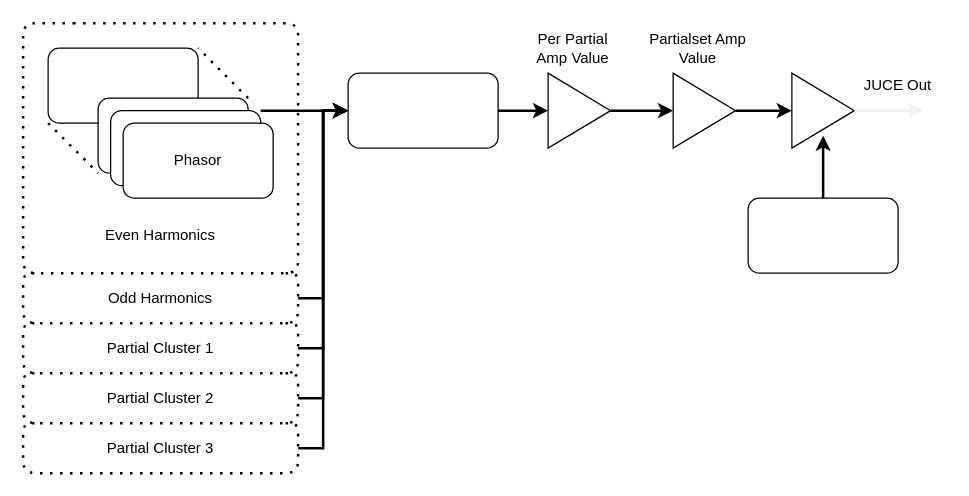
Image size: 969x496. Some labels were removed from this diagram. The centre of each missing label's shape, as x and y in pixels:
Envelope: [822,235]
SineTable: [422,110]
